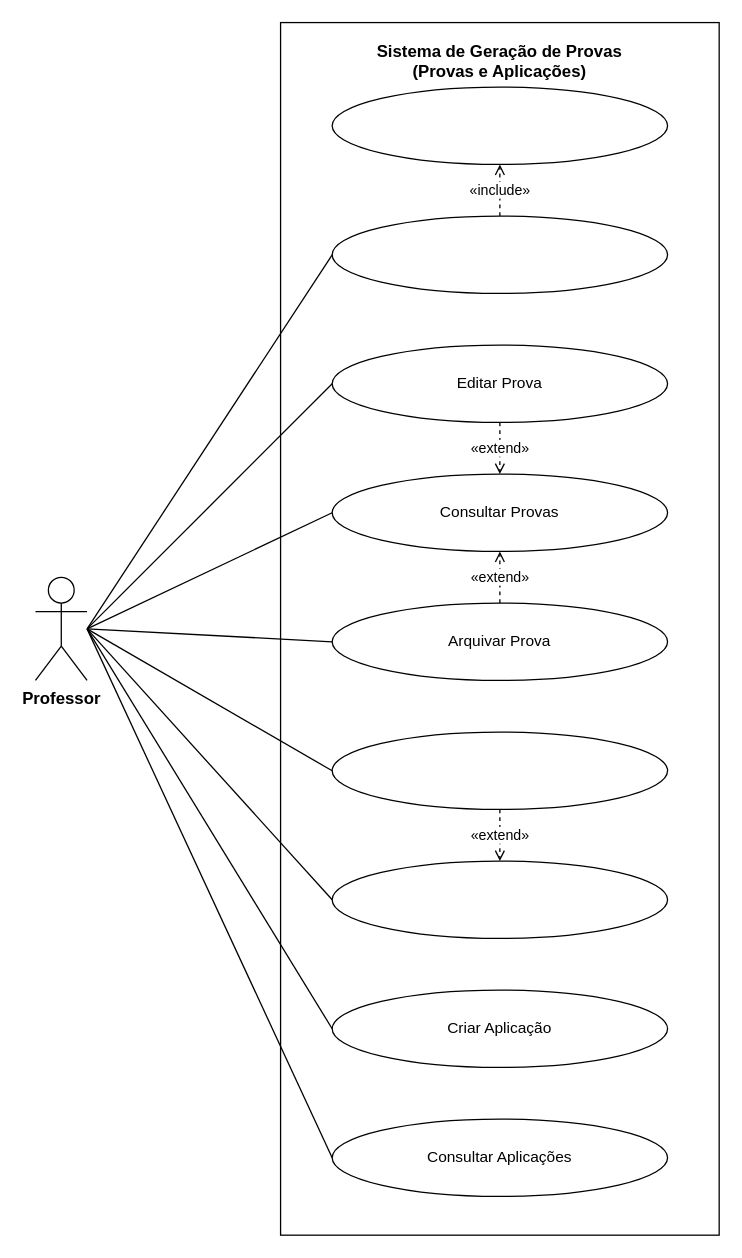
Image size: 742x1258. Some labels were removed from this diagram. The shapes that lost their labels are listed below. From the top down, each one's centre as x and y in pixels, then its label:
the point at 499,125: Selecionar Questões do Banco
the point at 499,254: Montar Prova
the point at 499,770: Publicar Gabarito
the point at 499,899: Gerar Provas em PDF
